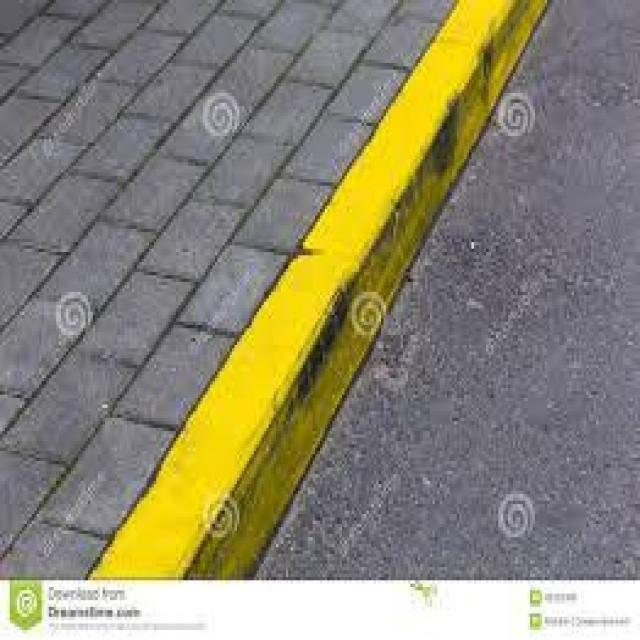curb: (92, 1, 549, 578)
